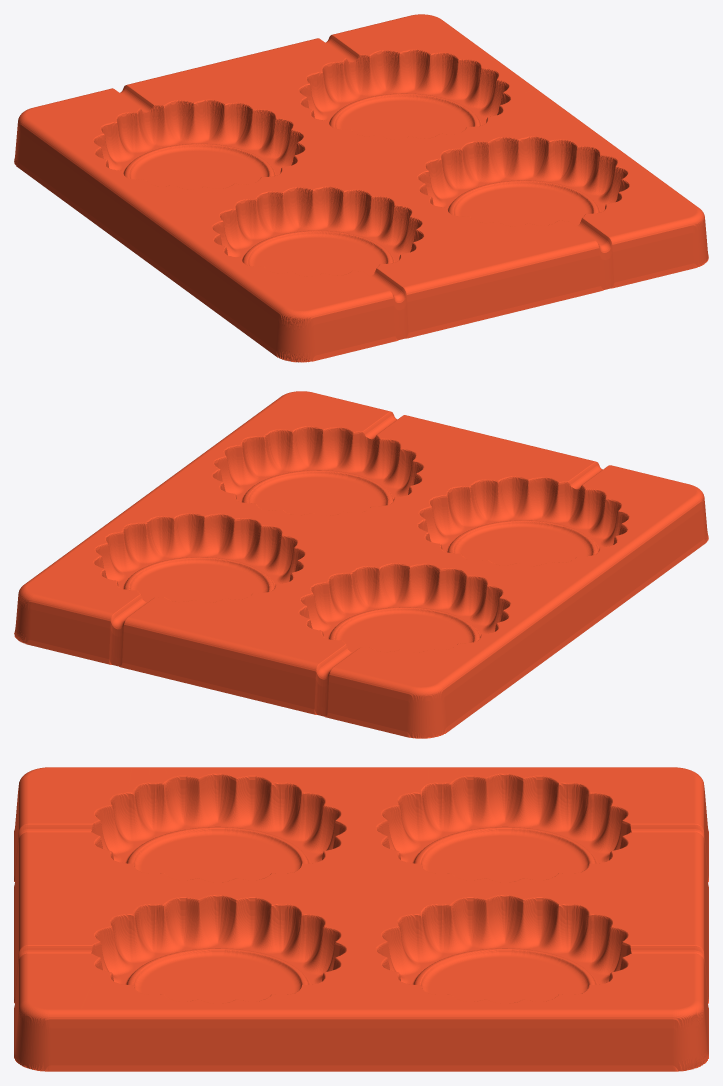
File: mold.glb
The picture shows the model from 3 angles, top to bottom: view 1: azimuth 30°, elevation 25°; view 2: azimuth 150°, elevation 25°; view 3: azimuth 270°, elevation 25°; orthographic projection. The views are drawn at different scales.
Visible parts, largest first — view 1: geometry_0; view 2: geometry_0; view 3: geometry_0.
Boxes of the visible parts, <box> form: geometry_0: <box>14,14,708,362</box>; geometry_0: <box>14,391,708,738</box>; geometry_0: <box>14,767,708,1071</box>.
Bounding box in the file's own units: 0.1497 × 0.0155 × 0.1735.
